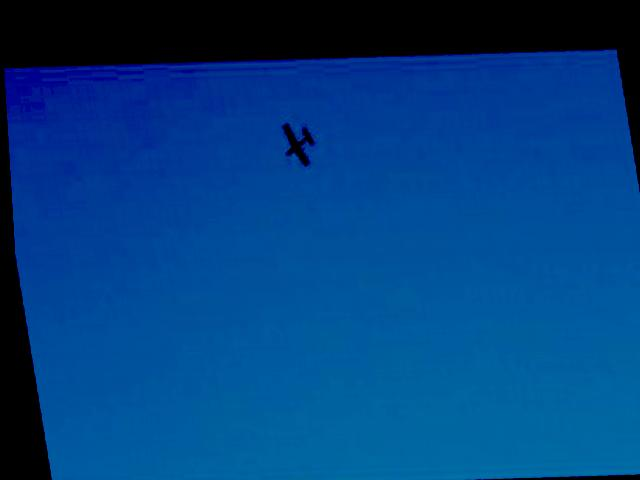uav: (277, 111, 319, 169)
